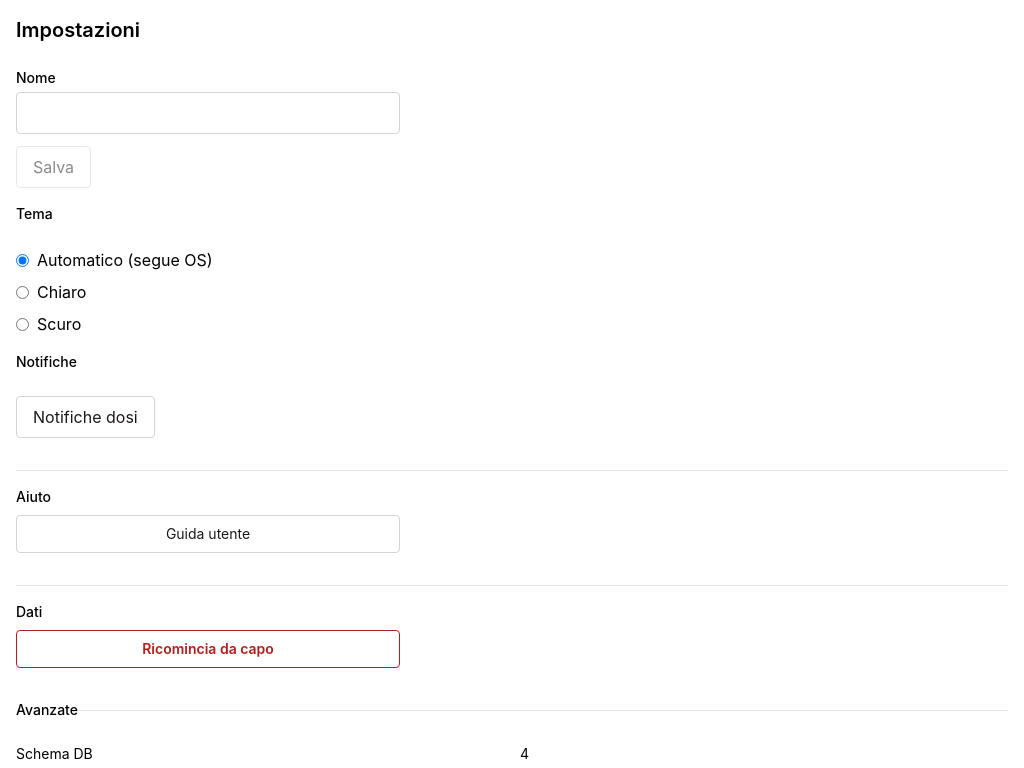
Test case: ImpostazioniTab — Sezione Dati "Ricomincia da capo" (CP6 §6.180) › tap "Ricomincia da capo" apre ConfirmModal con copy danger
Click the button "Ricomincia da capo". click: x=208, y=649
box: [16,630,400,668]
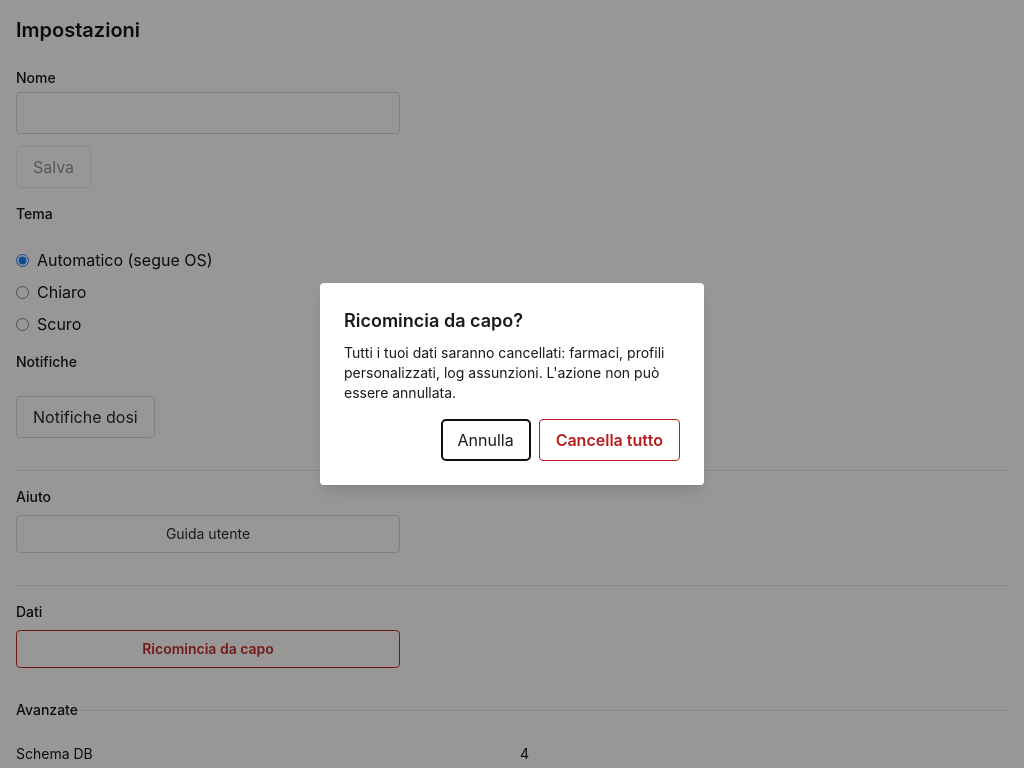
Expected: the heading "Ricomincia da capo?" is shown, [344,310,523,331]
Expected: the text "non può essere annullata" is shown, [344,344,664,401]
Expected: the button "Cancella tutto" is shown, [539,419,680,461]
